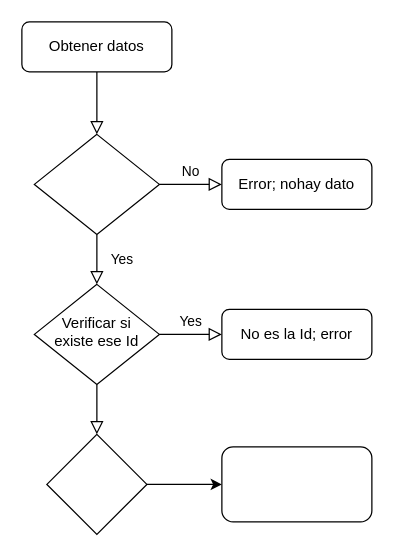
This 394x556 diagram has some shape labels left out. Here are the shapes that lost their labels. From the top down, the centre of each, then its label:
(x=96, y=183): Existe dato(id)
(x=96, y=483): eds
